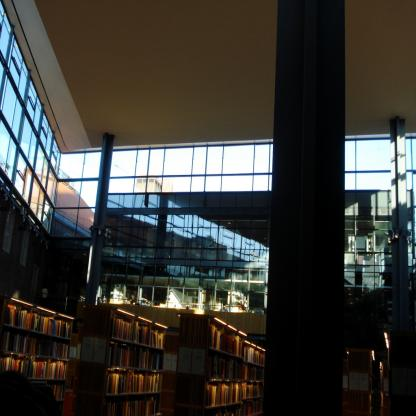book: (2, 296, 72, 340), (0, 328, 72, 360), (0, 351, 69, 379), (106, 342, 164, 370), (102, 367, 162, 394), (206, 322, 240, 361), (102, 394, 160, 416), (206, 348, 237, 380), (204, 382, 238, 406), (236, 379, 264, 404), (243, 341, 267, 366), (237, 360, 265, 380), (112, 316, 133, 338), (240, 398, 265, 416), (136, 320, 152, 348), (204, 406, 238, 416), (153, 322, 164, 352), (52, 381, 64, 398)
